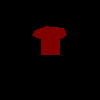t-shirt: (32, 26, 66, 55)
